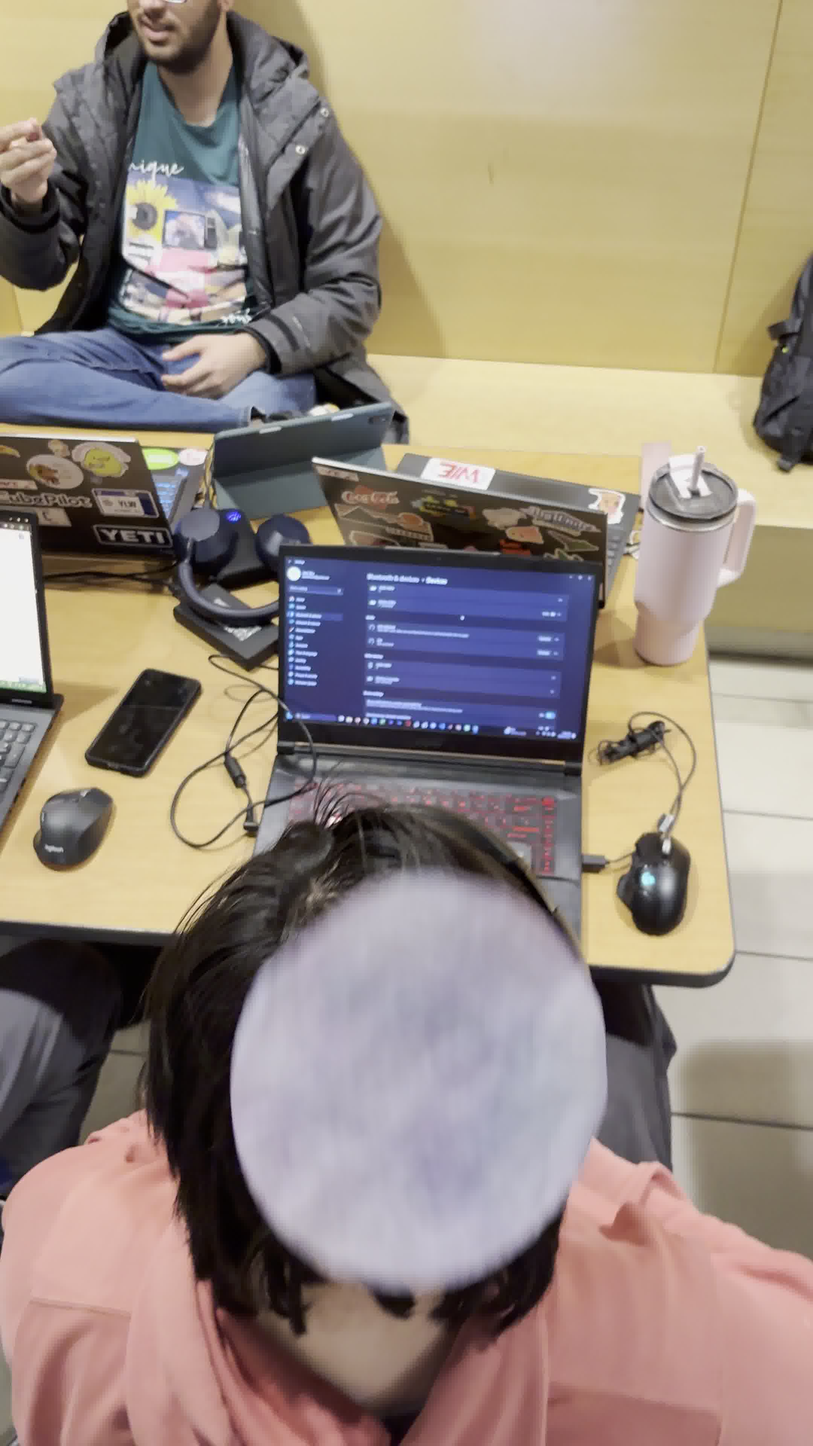Target: (229, 869, 607, 1290)
